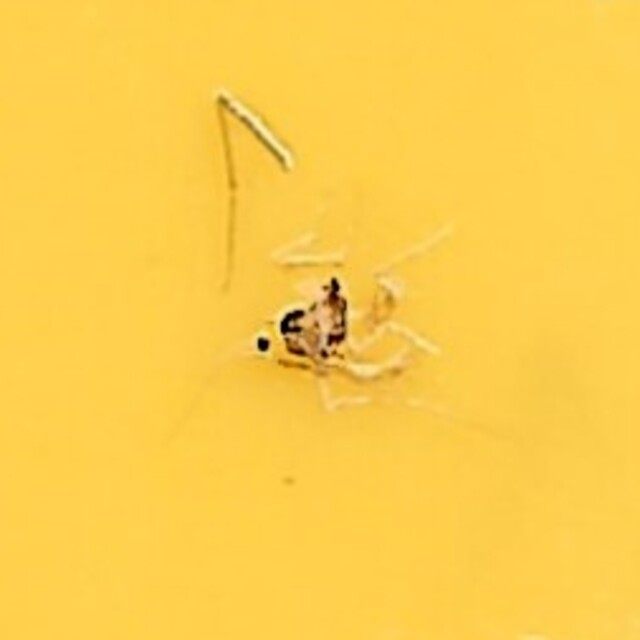Nematocera: (253, 272, 387, 368)
